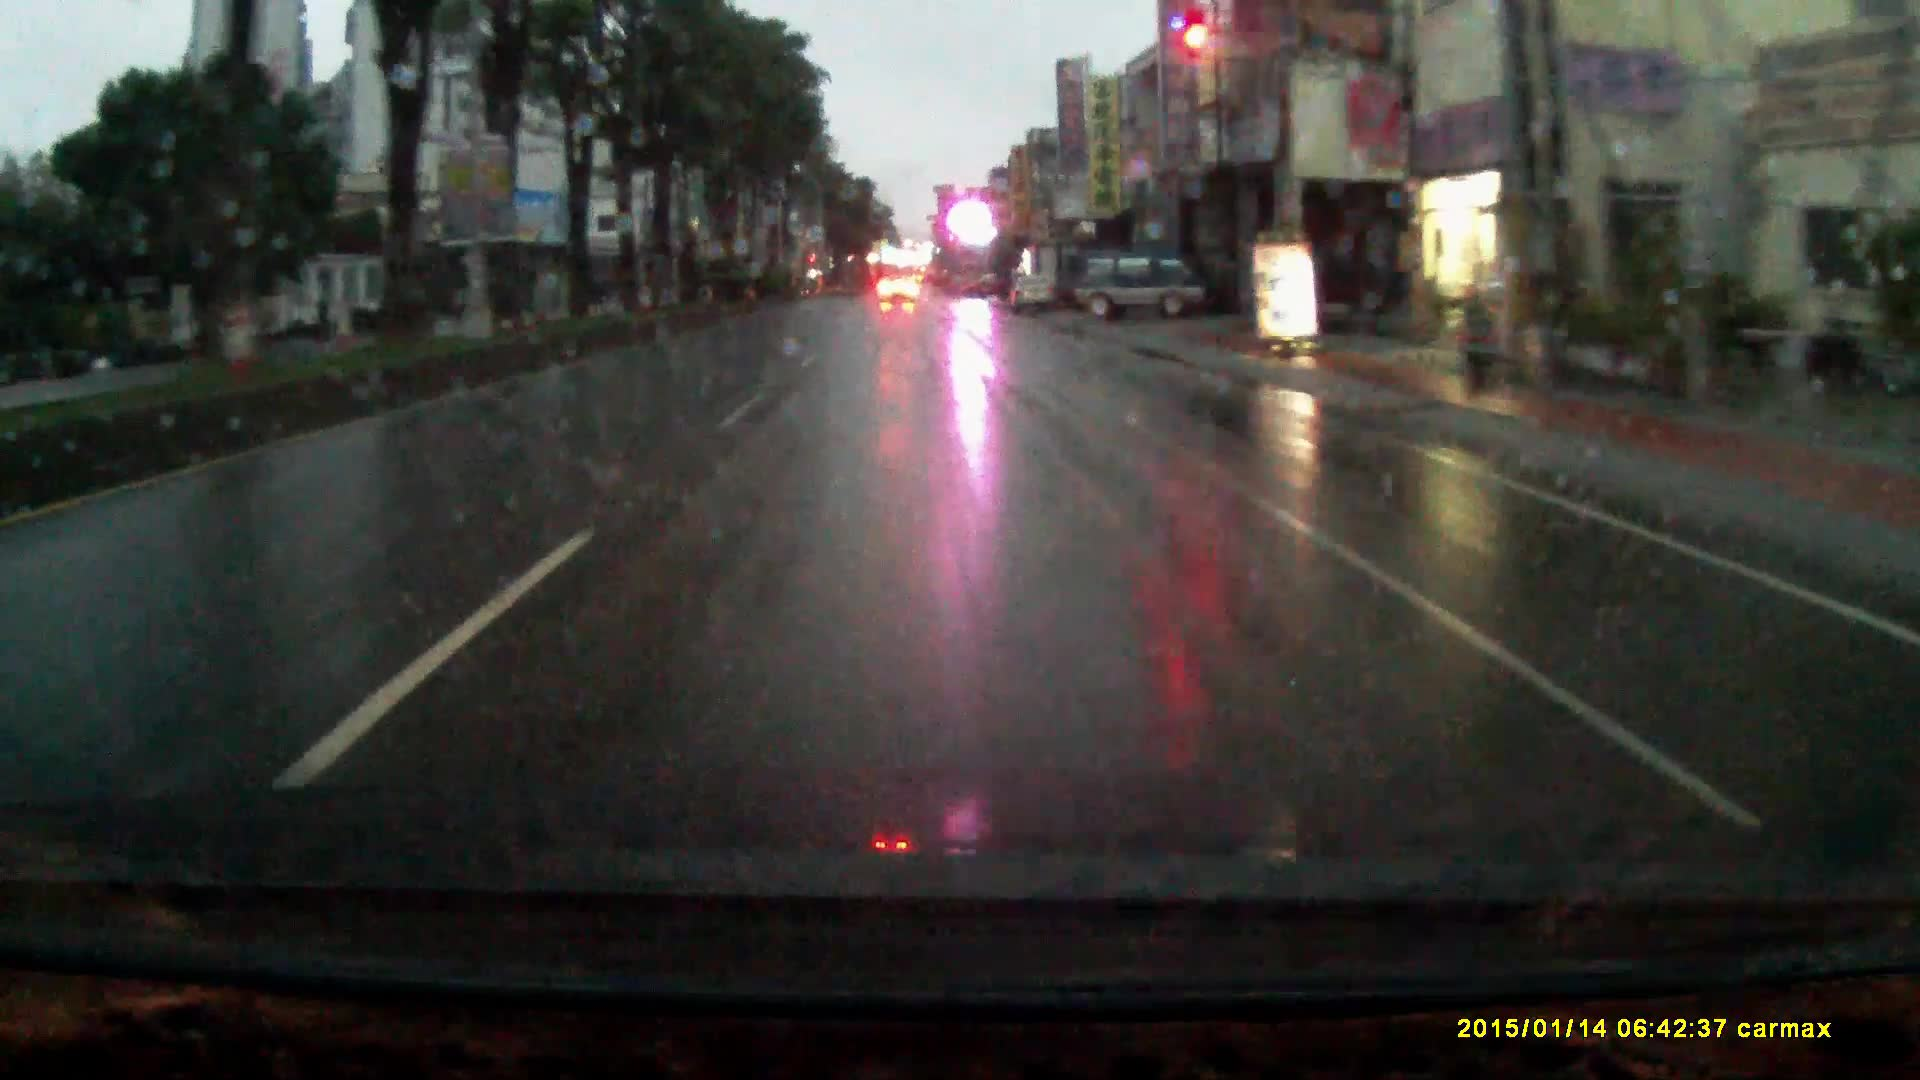vehicle: (1067, 247, 1212, 324), (1019, 245, 1085, 324), (1007, 277, 1062, 318), (878, 281, 920, 313)
